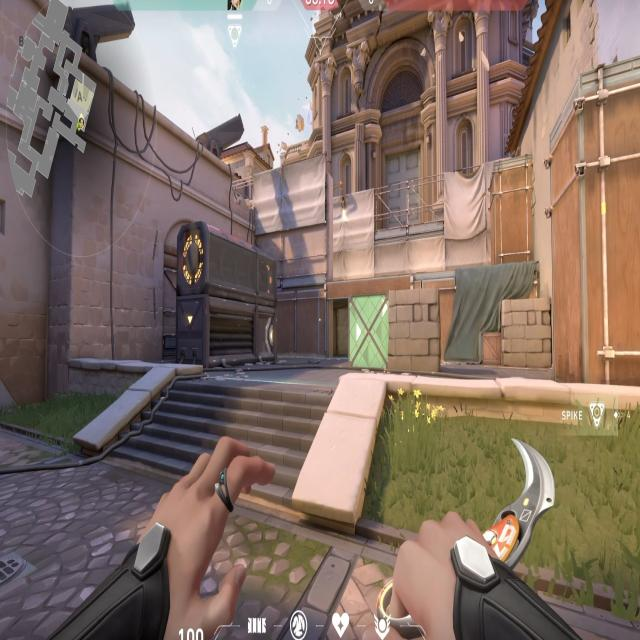A_Heaven_Box: (489, 160, 536, 268)
A_Heaven_Wall: (254, 171, 336, 285)
A_Hell: (315, 284, 429, 375)
A_Site_Box: (347, 290, 442, 371)
